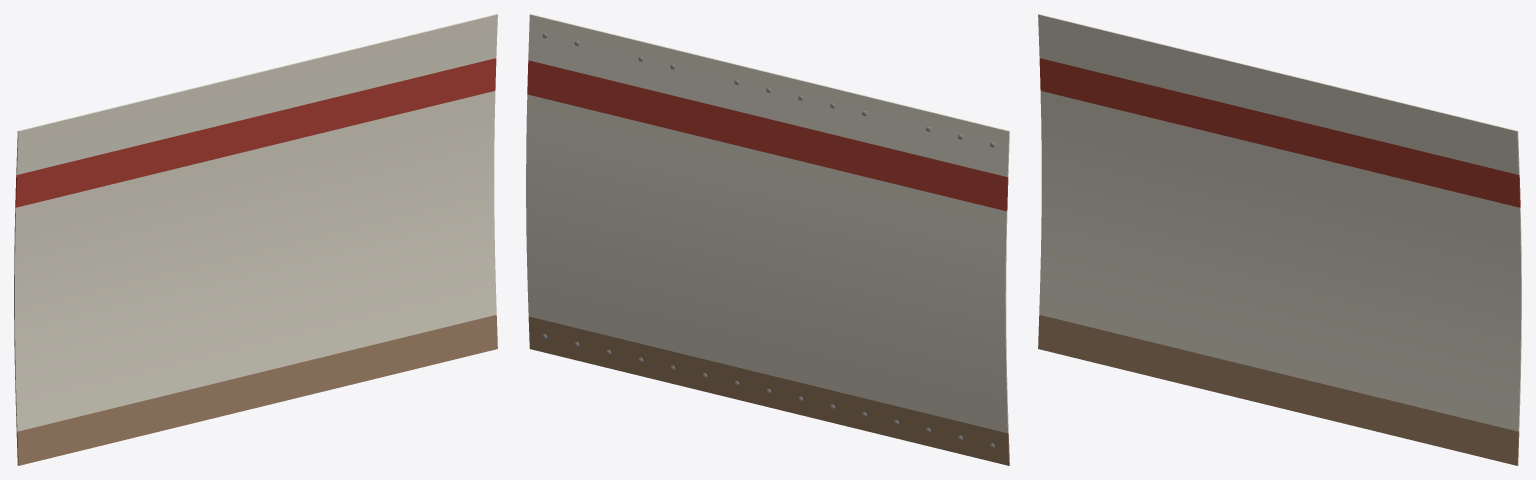
File: bus_panel.glb
The picture shows the model from 3 angles, left to right: view 1: azimuth 30°, elevation 25°; view 2: azimuth 150°, elevation 25°; view 3: azimuth 330°, elevation 25°; orthographic projection.
Parts seen in each view (by area): view 1: body; view 2: body; view 3: body.
Boxes of the visible parts, x1,y1,x2,y2 form: body: (14,14,497,465); body: (526,14,1009,465); body: (1038,14,1521,465).
Bounding box in the file's own units: 0.9 × 0.6 × 0.0145.
